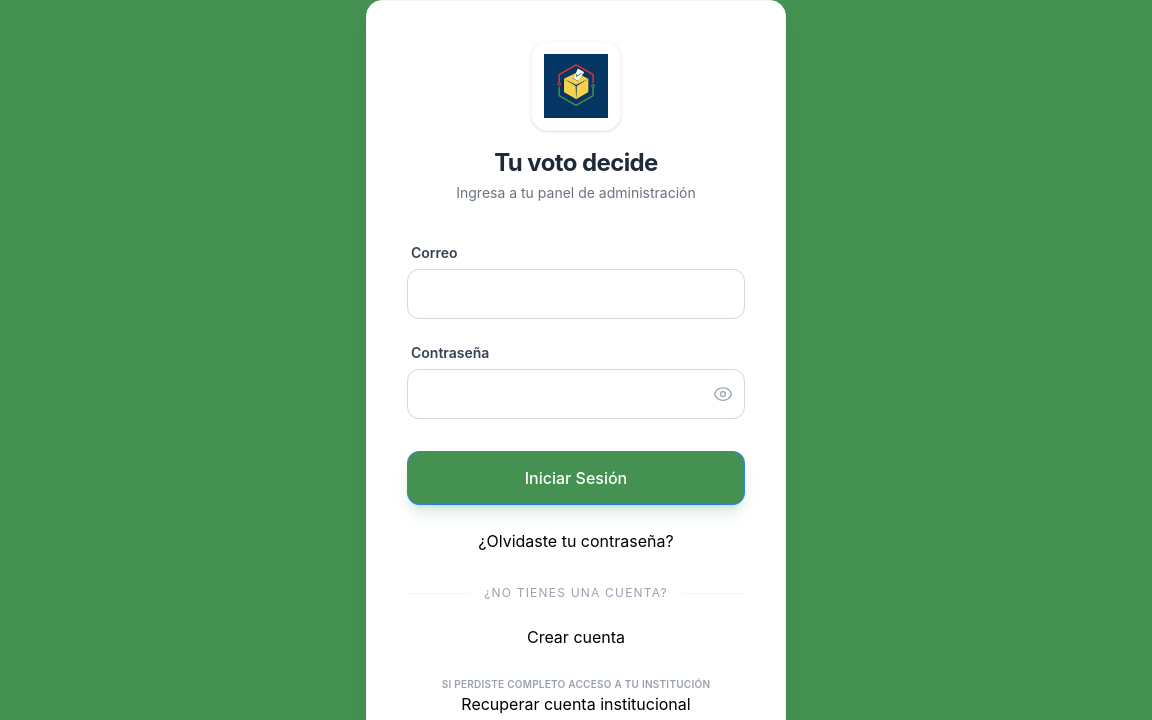
MX-03 | auth y acceso | integraciones canónicas › [MX-03][AUT-UI-P1-001][INTEGRACION] conserva formulario ante 401 visible
Type "admin@test.com" into the field with test id "login-email" at coordinates (576, 294), box top-left (407, 269), bottom-right (745, 319)
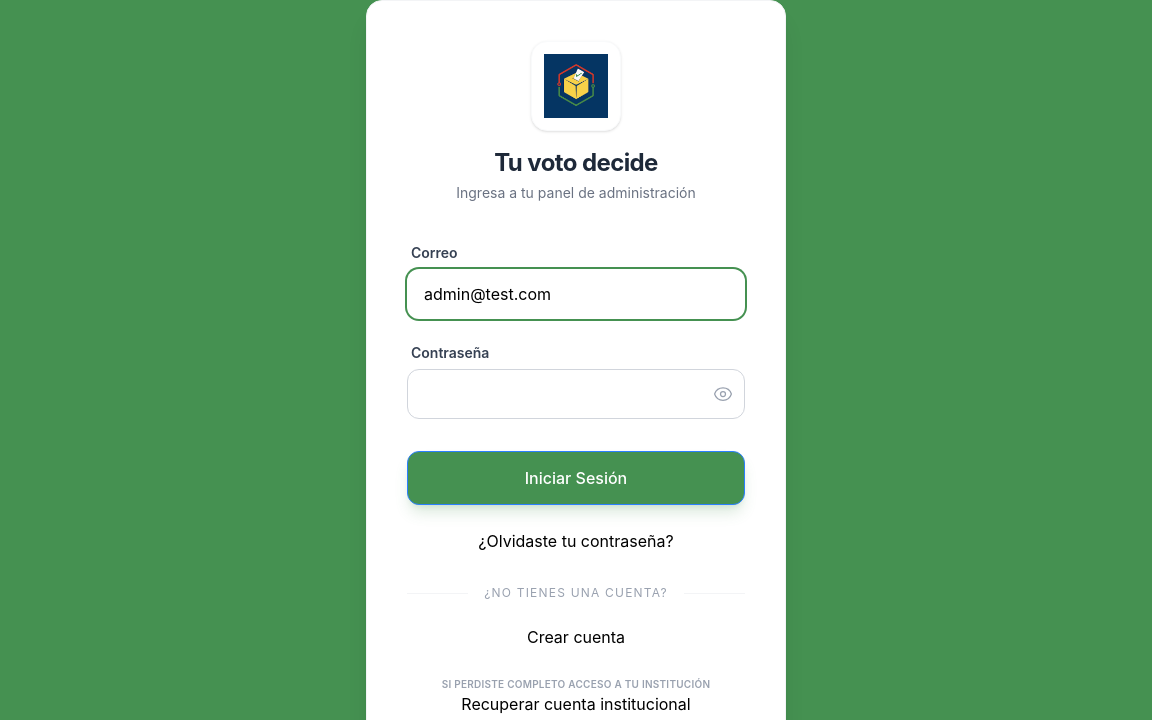
Type "12345678" into the password field with test id "login-password" at coordinates (576, 394), box top-left (407, 369), bottom-right (745, 419)
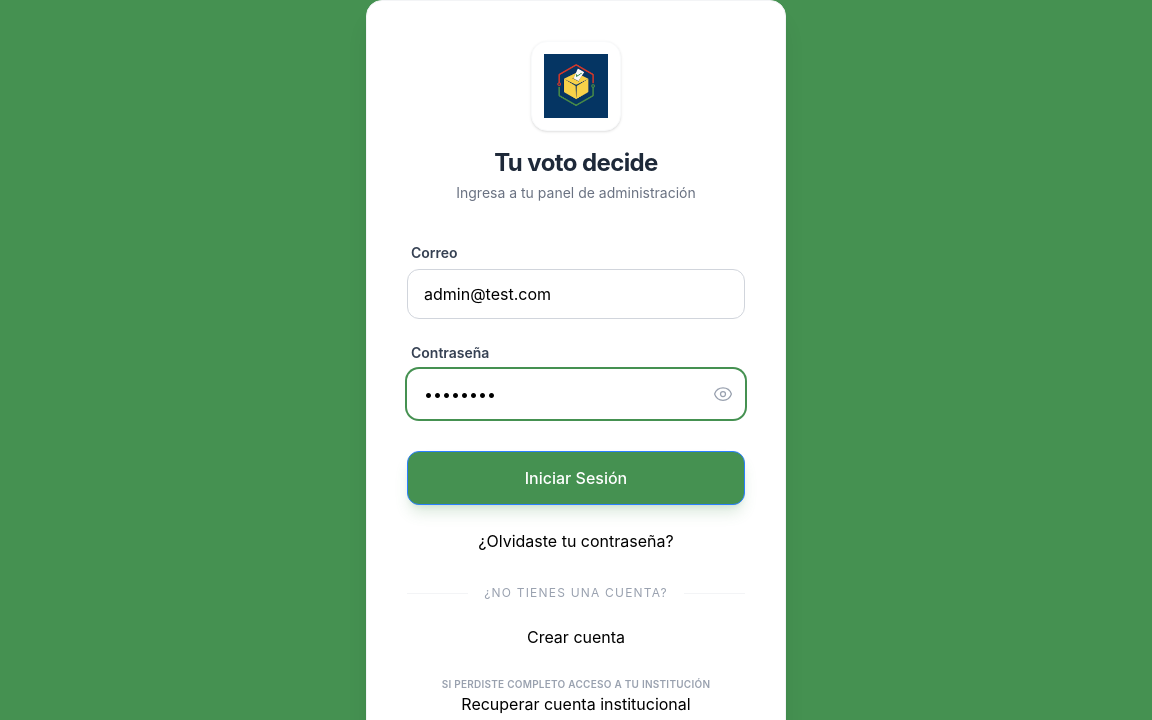
Click the button with test id "login-submit" at coordinates (576, 478), box top-left (407, 451), bottom-right (745, 505)
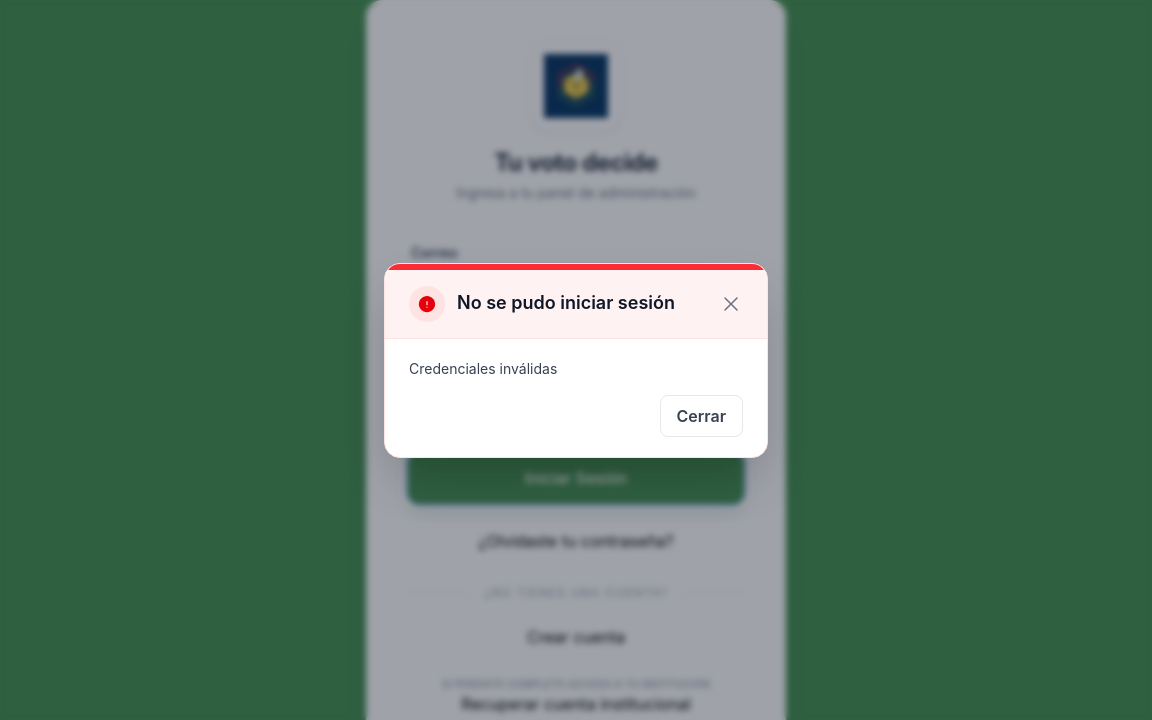
Now the text "Credenciales inválidas" is shown, box top-left (409, 360), bottom-right (557, 376)
